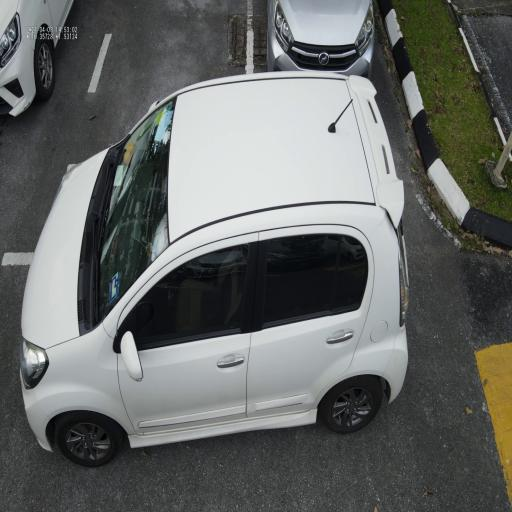Empty: (44, 0, 261, 183)
Illegal: (16, 71, 410, 473)
Occupied: (242, 0, 420, 109)
